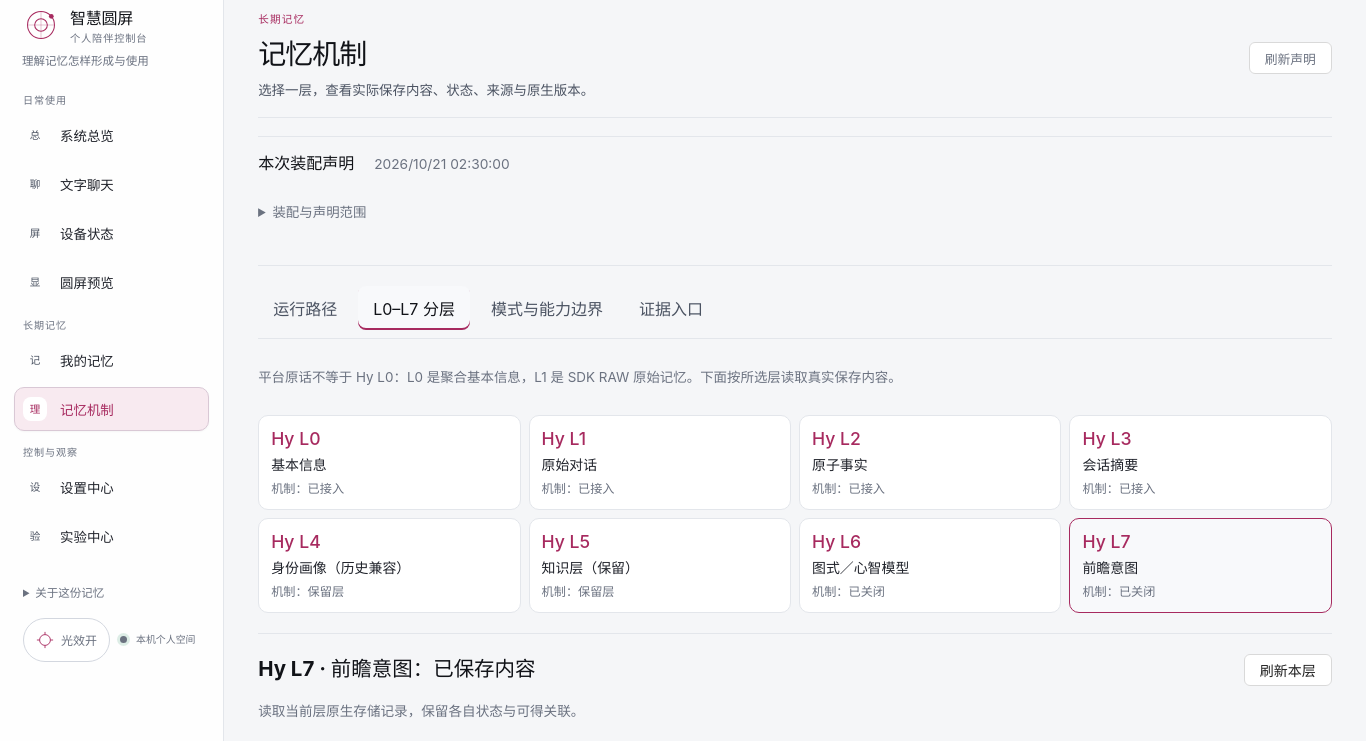
Scenario: 八层编号与平台来源分开；关闭/保留不当作零
The width and height of the screenshot is (1366, 741).
Expected: the text "平台原话不等于 Hy L0：L0 是聚合基本信息，L1 是 SDK RAW 原始记忆。下面按所选层读取真实保存内容。" is shown, [258,365,979,389]
Expected: the heading "Hy L7 · 前瞻意图：已保存内容" is shown, [258,654,584,685]
What coordinates should you click on to do the following:
click the button "Hy L4 身份画像（历史兼容） 机制：保留层"
I would click on:
 (389, 566)
Its box is [258,518,520,613].
(page scrolled)
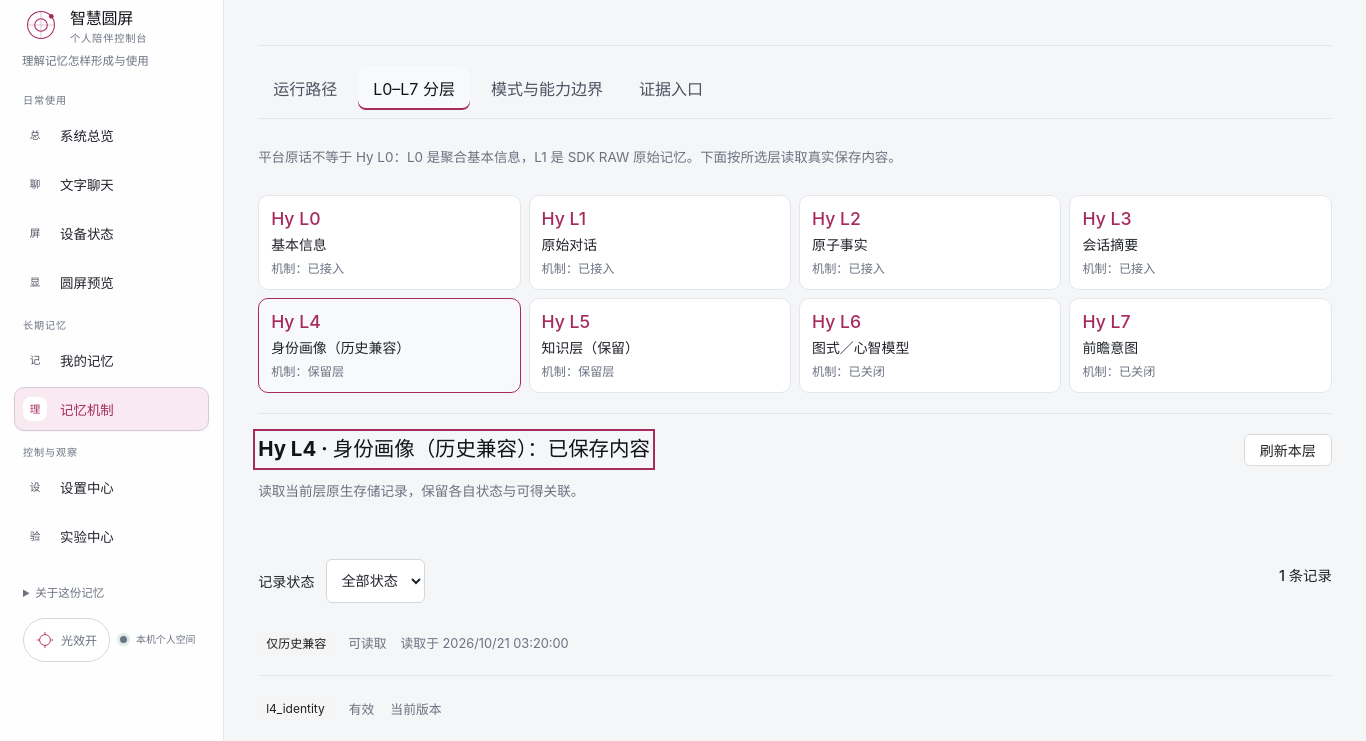
Expected: the 1st text "机制：保留层" is shown, [271,362,344,380]
Result: the heading "Hy L4 · 身份画像（历史兼容）：已保存内容" is shown at [258,434,650,465]
